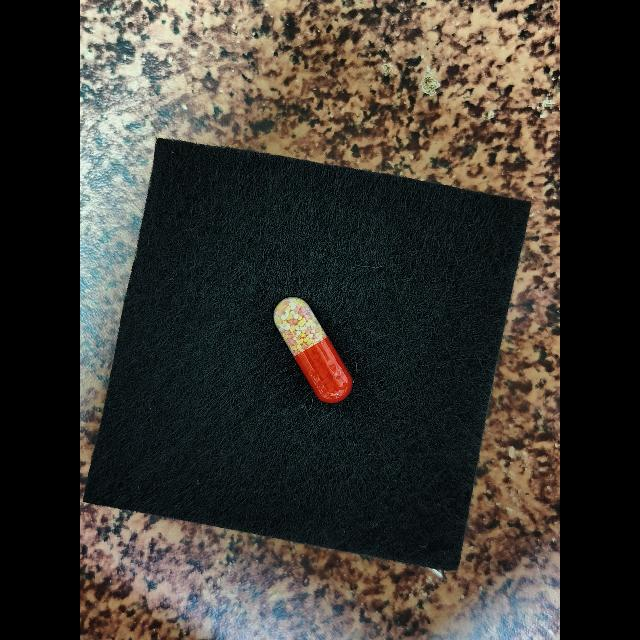Intact Capsule: (273, 297, 352, 403)
